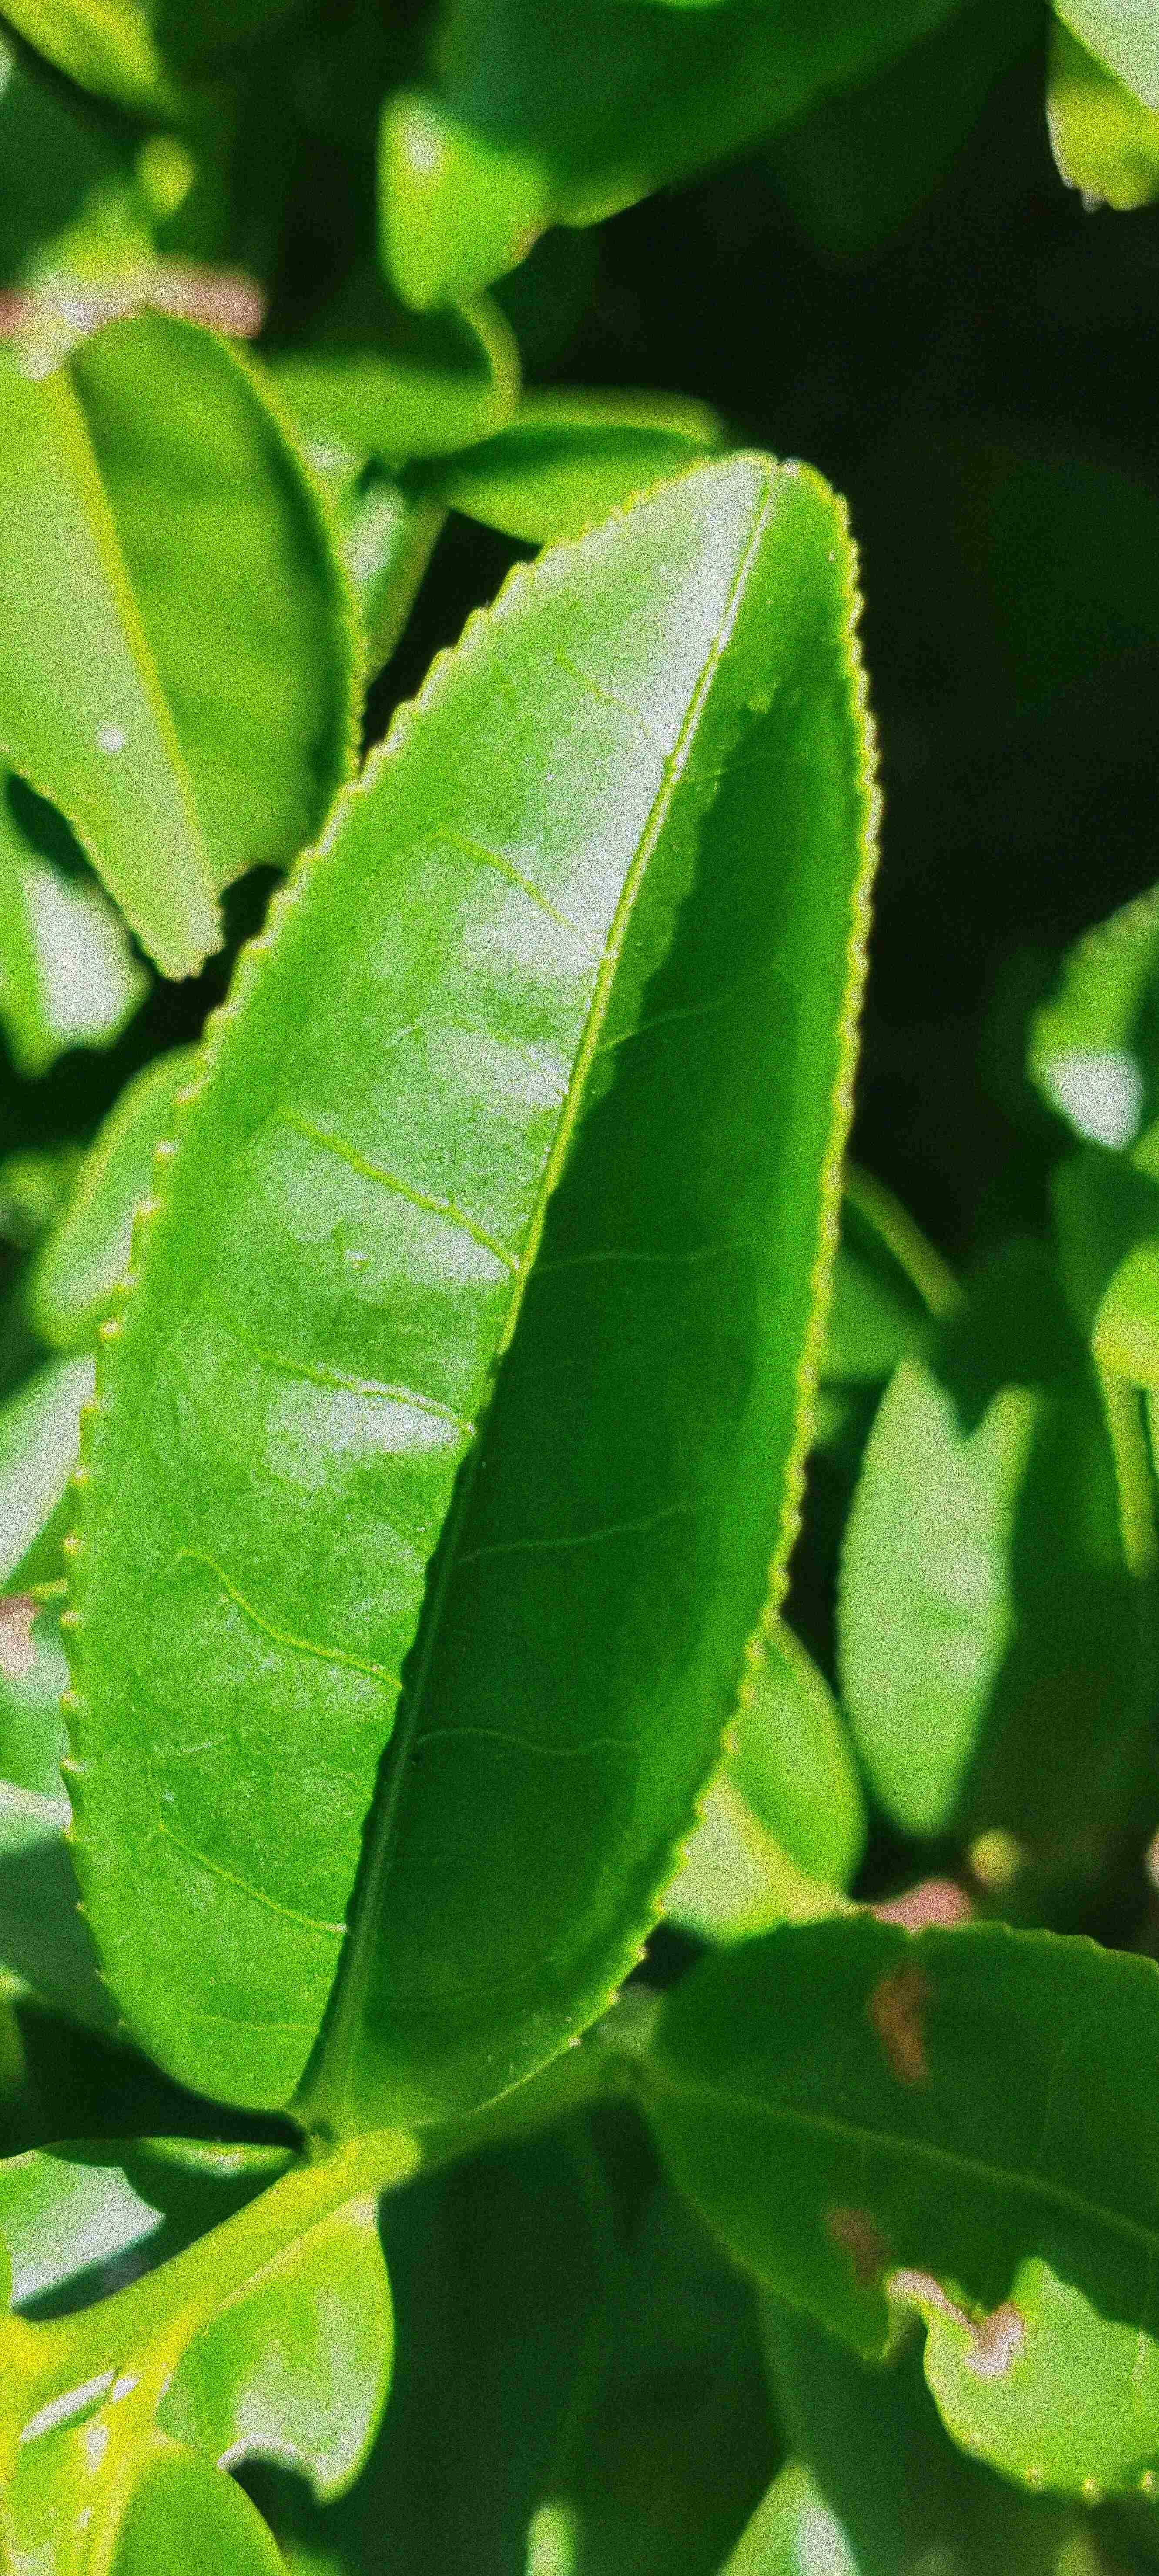healthy: (46, 448, 878, 2129)
tanju_high: (642, 1914, 1159, 2504)
